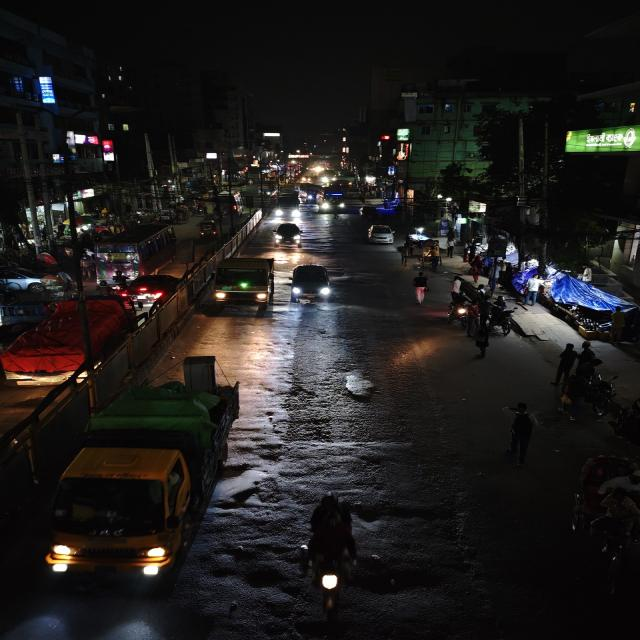bus: (95, 221, 180, 279), (270, 190, 300, 220), (318, 184, 346, 213), (298, 183, 322, 206)
car: (119, 272, 187, 308), (287, 263, 333, 305), (270, 220, 306, 248), (364, 221, 397, 246)
motorcycle: (298, 488, 366, 612), (486, 294, 516, 337), (408, 271, 432, 306)
pedestrian: (500, 400, 541, 466), (552, 342, 578, 386), (575, 341, 601, 383), (555, 392, 580, 424)
pickup_van: (46, 382, 237, 584), (0, 294, 131, 389), (212, 256, 278, 310)
rickshaw: (564, 452, 640, 571)
